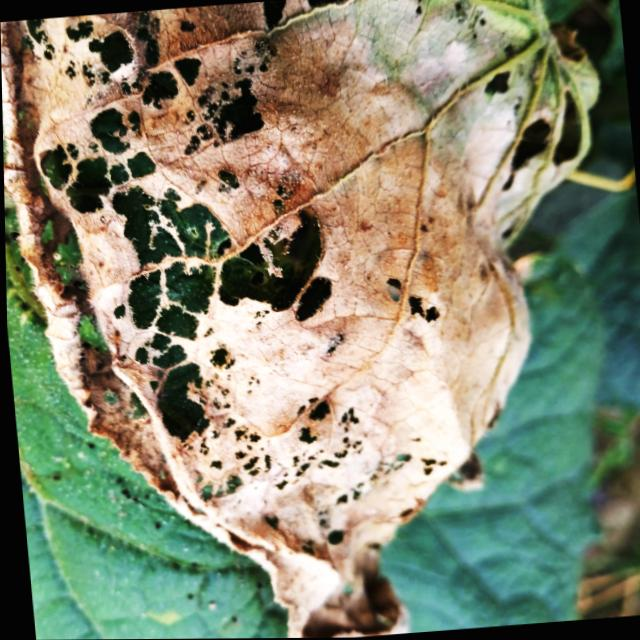Anthracnose: (1, 11, 340, 474), (494, 69, 592, 197), (381, 269, 443, 330), (477, 63, 516, 100)
